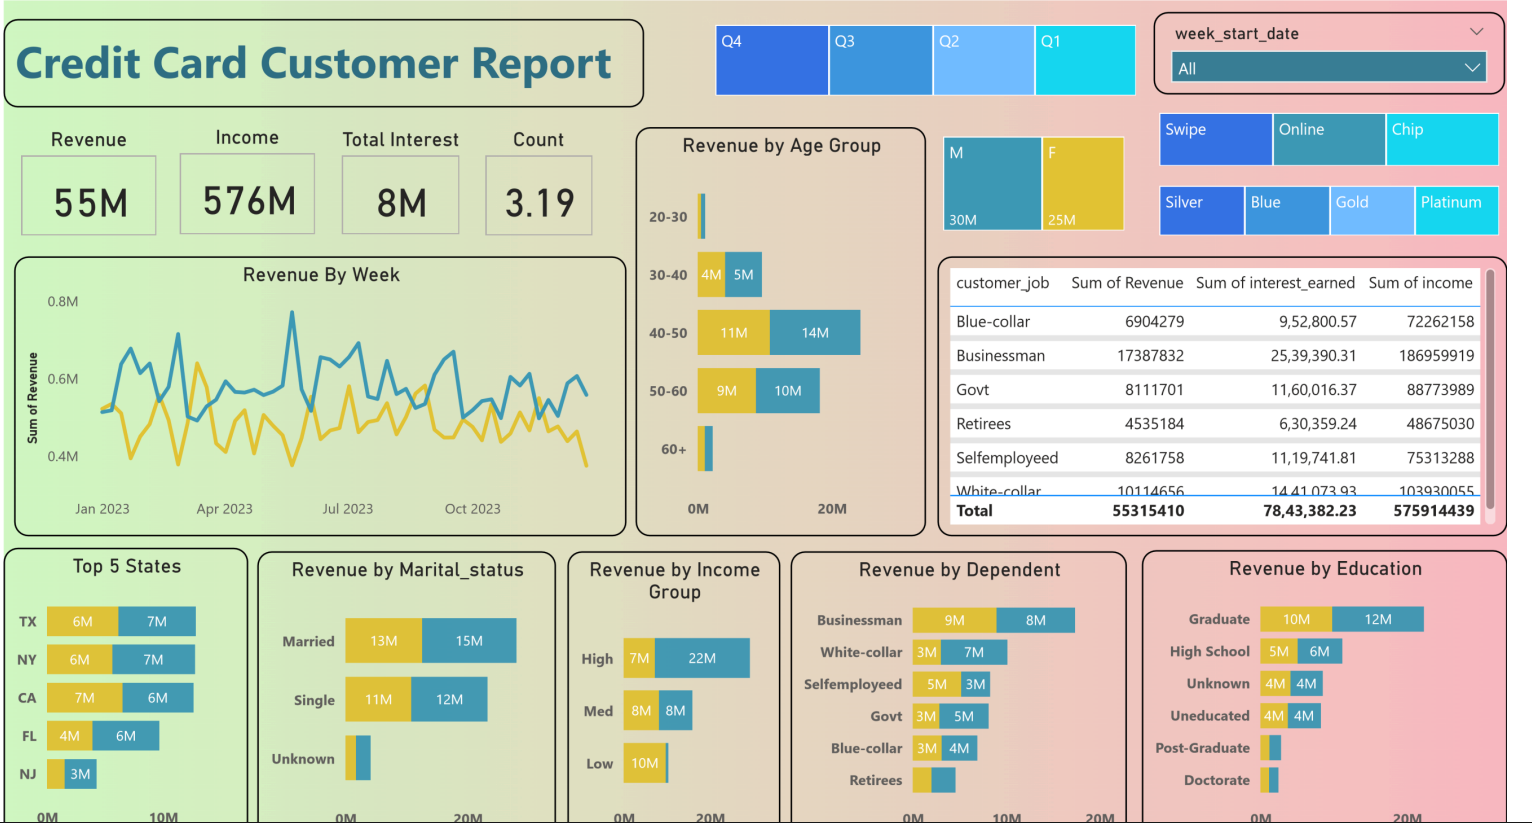

This screenshot's page, from the dashboard's own definition file:
{"tool":"powerbi","page":{"name":"CC_customer","canvas":[1280,720],"ordinal":2},"visuals":[{"type":"textbox","box":[0,16.2,545,75],"z":0},{"type":"barChart","title":" Revenue by Income Group","fields":{"Y":["Sum(public cc_detail.Revenue)"],"Category":["public cust_detail.IncomeGroup"],"Series":["public cust_detail.gender"]},"box":[480,468.8,181.2,251.2],"z":1000},{"type":"tableEx","fields":{"Values":["public cust_detail.customer_job","Sum(public cc_detail.Revenue)","Sum(public cc_detail.interest_earned)","Sum(public cust_detail.income)"]},"box":[795,217.5,485,238.8],"z":2000},{"type":"cardVisual","title":"Revenue","fields":{"Data":["Sum(public cc_detail.Revenue)"]},"box":[10,107.5,125,98.8],"z":3000},{"type":"cardVisual","title":"Income","fields":{"Data":["Sum(public cust_detail.income)"]},"box":[145,106.2,125,98.8],"z":4000},{"type":"cardVisual","title":"Total Interest","fields":{"Data":["Sum(public cc_detail.interest_earned)"]},"box":[282.5,107.5,110,97.5],"z":5000},{"type":"cardVisual","title":"Count","fields":{"Data":["Avg(public cust_detail.cust_satisfaction_score)"]},"box":[405,107.5,101.2,98.8],"z":6000},{"type":"slicer","fields":{"Values":["public cc_detail.week_start_date"]},"box":[978.8,10,298.8,70],"z":7000},{"type":"treemap","fields":{"Group":["public cc_detail.qtr"],"Values":["Avg(public cc_detail.client_num)"]},"box":[601.2,16.2,367.5,70],"z":8000},{"type":"treemap","fields":{"Values":["Avg(public cc_detail.client_num)"],"Group":["public cc_detail.card_category"]},"box":[978.8,152.5,298.8,52.5],"z":9000},{"type":"lineChart","title":"Revenue By Week","fields":{"Category":["public cc_detail.week_start_date.Variation.Date Hierarchy.Year","public cc_detail.week_start_date.Variation.Date Hierarchy.Month","public cc_detail.week_start_date.Variation.Date Hierarchy.Day"],"Y":["Sum(public cc_detail.Revenue)"],"Series":["public cust_detail.gender"]},"box":[8.8,217.5,521.2,238.8],"z":10000},{"type":"treemap","fields":{"Group":["public cust_detail.gender"],"Values":["Sum(public cc_detail.Revenue)"]},"box":[795,111.2,163.8,90],"z":11000},{"type":"barChart","title":" Revenue by Age Group","fields":{"Y":["Sum(public cc_detail.Revenue)"],"Category":["public cust_detail.AgeGroup"],"Series":["public cust_detail.gender"]},"box":[537.5,107.5,247.5,348.8],"z":12000},{"type":"barChart","title":" Revenue by Dependent","fields":{"Y":["Sum(public cc_detail.Revenue)"],"Category":["public cust_detail.customer_job"],"Series":["public cust_detail.gender"]},"box":[670,468.8,286.2,251.2],"z":13000},{"type":"barChart","title":" Revenue by Education","fields":{"Y":["Sum(public cc_detail.Revenue)"],"Category":["public cust_detail.education_level"],"Series":["public cust_detail.gender"]},"box":[968.8,467.5,311.2,252.5],"z":14000},{"type":"barChart","title":"Top 5 States","fields":{"Y":["Sum(public cc_detail.Revenue)"],"Category":["public cust_detail.state_cd"],"Series":["public cust_detail.gender"]},"box":[0,466.2,207.5,252.5],"z":15000},{"type":"barChart","title":" Revenue by Marital_status","fields":{"Y":["Sum(public cc_detail.Revenue)"],"Category":["public cust_detail.marital_status"],"Series":["public cust_detail.gender"]},"box":[216.2,468.8,253.8,251.2],"z":16000},{"type":"treemap","fields":{"Values":["Avg(public cc_detail.client_num)"],"Group":["public cc_detail.use_chip"]},"box":[978.8,91.2,298.8,55],"z":17000}]}

Visuals, with their boxes in screenshot pixels (x1, y1, x2, y2):
textbox: BBox(8, 19, 644, 106)
" Revenue by Income Group" barChart: BBox(568, 547, 780, 822)
tableEx - public cust_detail.customer_job x Sum(public cc_detail.Revenue): BBox(936, 254, 1502, 533)
"Revenue" cardVisual: BBox(20, 125, 166, 241)
"Income" cardVisual: BBox(177, 124, 323, 239)
"Total Interest" cardVisual: BBox(338, 125, 466, 239)
"Count" cardVisual: BBox(481, 125, 599, 241)
slicer - public cc_detail.week_start_date: BBox(1150, 12, 1499, 93)
treemap - public cc_detail.qtr x Avg(public cc_detail.client_num): BBox(710, 19, 1139, 101)
treemap - Avg(public cc_detail.client_num) x public cc_detail.card_category: BBox(1150, 178, 1499, 239)
"Revenue By Week" lineChart: BBox(18, 254, 627, 533)
treemap - public cust_detail.gender x Sum(public cc_detail.Revenue): BBox(936, 130, 1127, 235)
" Revenue by Age Group" barChart: BBox(635, 125, 924, 533)
" Revenue by Dependent" barChart: BBox(790, 547, 1124, 822)
" Revenue by Education" barChart: BBox(1139, 546, 1502, 822)
"Top 5 States" barChart: BBox(8, 544, 250, 822)
" Revenue by Marital_status" barChart: BBox(260, 547, 556, 822)
treemap - Avg(public cc_detail.client_num) x public cc_detail.use_chip: BBox(1150, 106, 1499, 171)
